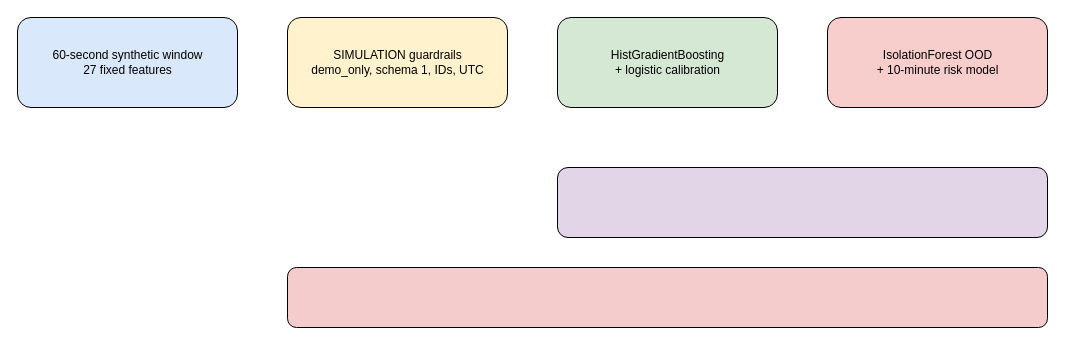
This 1065x345 diagram has some shape labels left out. The shapes that lost their labels are listed below. From the top down, each one's centre as x and y in pixels, then its label:
[802,202]: BENIGN | AVAILABILITY_ANOMALY | OPERATIONAL_FAULT | UNKNOWN
[667,297]: SIMULATION ONLY - NOT PRODUCTION DETECTION
